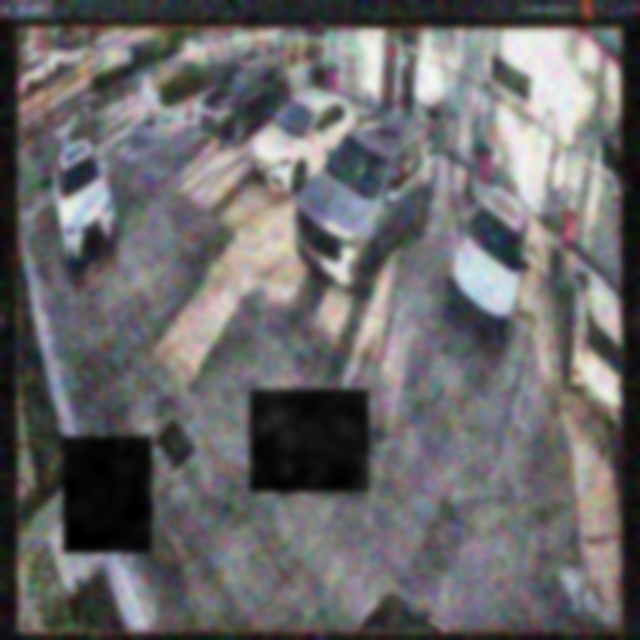Car: (295, 109, 437, 298), (448, 185, 532, 349), (248, 92, 360, 193)
